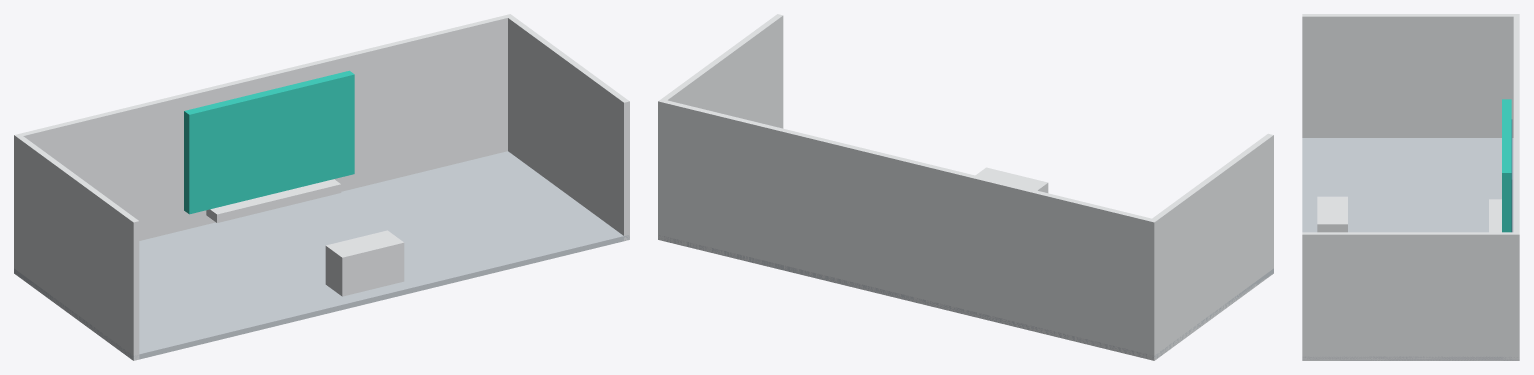
3 views of the same model, side by side, from view 1: azimuth 30°, elevation 25°; view 2: azimuth 150°, elevation 25°; view 3: azimuth 270°, elevation 25° (orthographic). The views are drawn at different scales.
Visible parts, largest first — view 1: Exhibition Booth Concept; view 2: Exhibition Booth Concept; view 3: Exhibition Booth Concept.
Part boxes in pixels (x1=…): Exhibition Booth Concept: x1=14, y1=14, x2=629, y2=360; Exhibition Booth Concept: x1=658, y1=14, x2=1273, y2=360; Exhibition Booth Concept: x1=1302, y1=14, x2=1519, y2=360.
Bounding box in the file's own units: 12 × 3.2 × 5.
